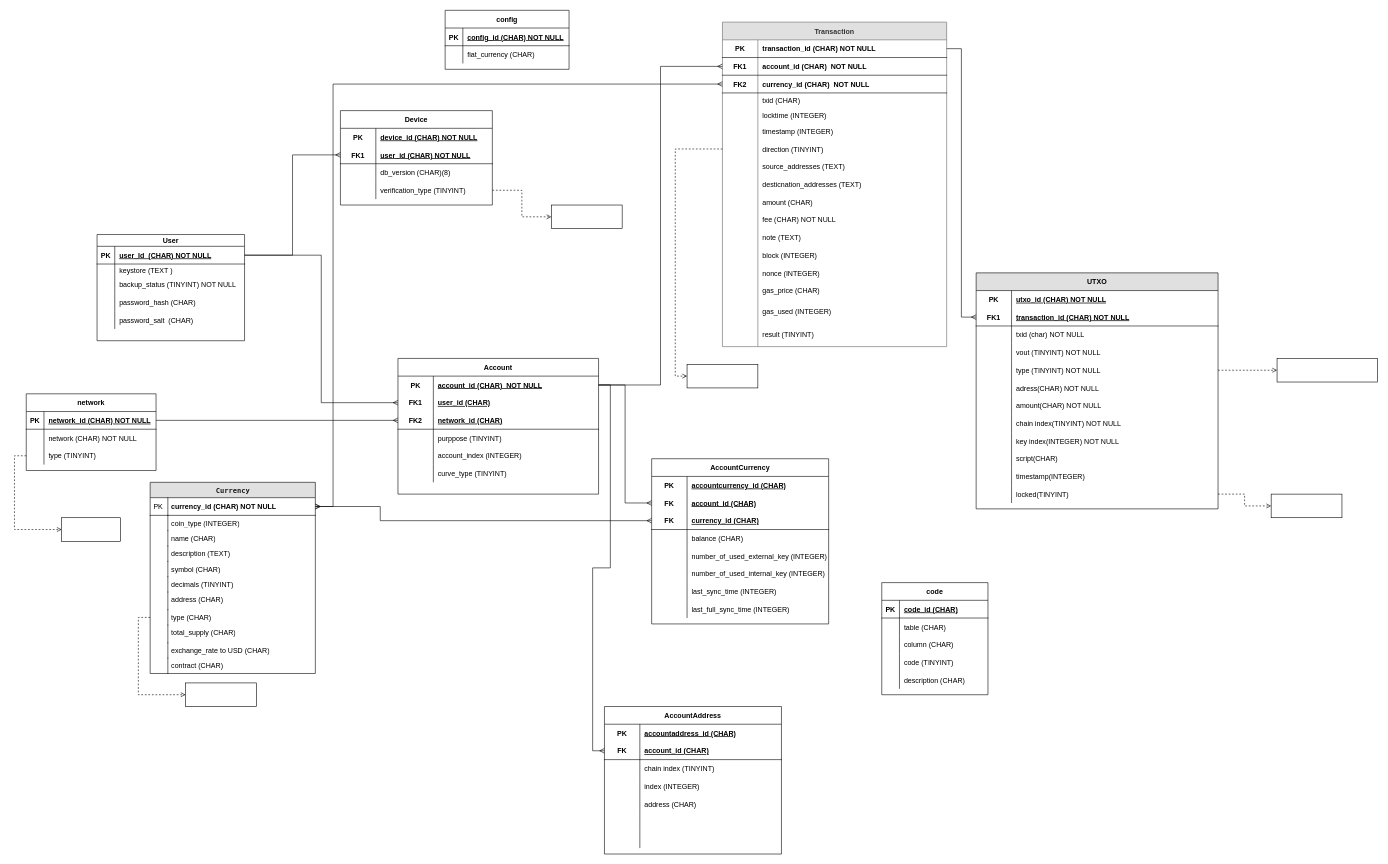
The diagram is 1388 pixels wide and 864 high, and some of its shapes have lost their labels. Each missing label, with the centre of its shape:
"fiat/currency/token" goes at point 220,694.
"legacy/segwit/native_segwit" goes at point 1326,370.
"mainnet/testnet" goes at point 91,529.
"pin/fingerprint/face_id" goes at point 586,216.
"send/received/moved" goes at point 722,376.
"used/unused" goes at point 1306,506.
